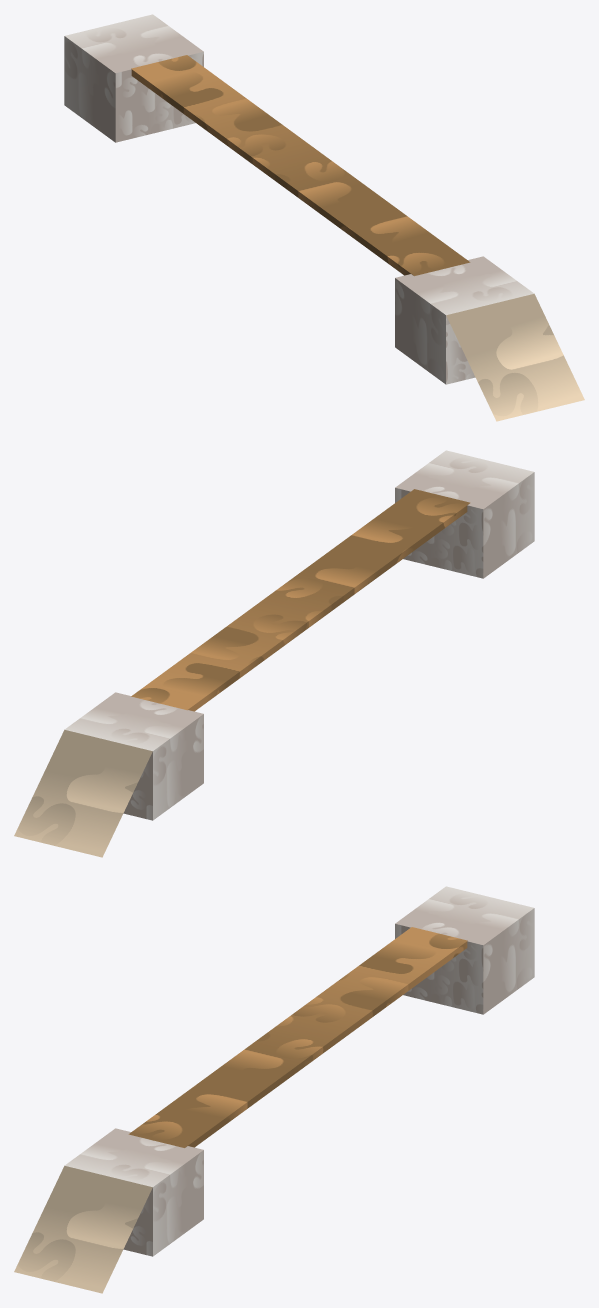
The model's file is puentesito.glb.
The picture shows the model from 3 angles, top to bottom: view 1: azimuth 30°, elevation 25°; view 2: azimuth 150°, elevation 25°; view 3: azimuth 330°, elevation 25°; orthographic projection.
Visible parts, largest first — view 1: Plane_0052, Tabla, Plane_005; view 2: Plane_005, Tabla, Plane_0052; view 3: Plane_0052, Tabla, Plane_005.
Boxes of the visible parts, <box> form: Plane_0052: <box>395,256,584,421</box>; Tabla: <box>131,55,470,275</box>; Plane_005: <box>64,14,203,142</box>; Plane_005: <box>14,692,203,857</box>; Tabla: <box>131,489,470,711</box>; Plane_0052: <box>395,450,534,578</box>; Plane_0052: <box>14,1128,203,1293</box>; Tabla: <box>128,927,467,1147</box>; Plane_005: <box>395,886,534,1014</box>.
Bounding box in the file's own units: 1.12 × 0.8427 × 10.58.
Materials: 2 (2 with a texture image).
